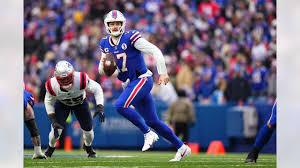americanFootball: (102, 53, 118, 75)
